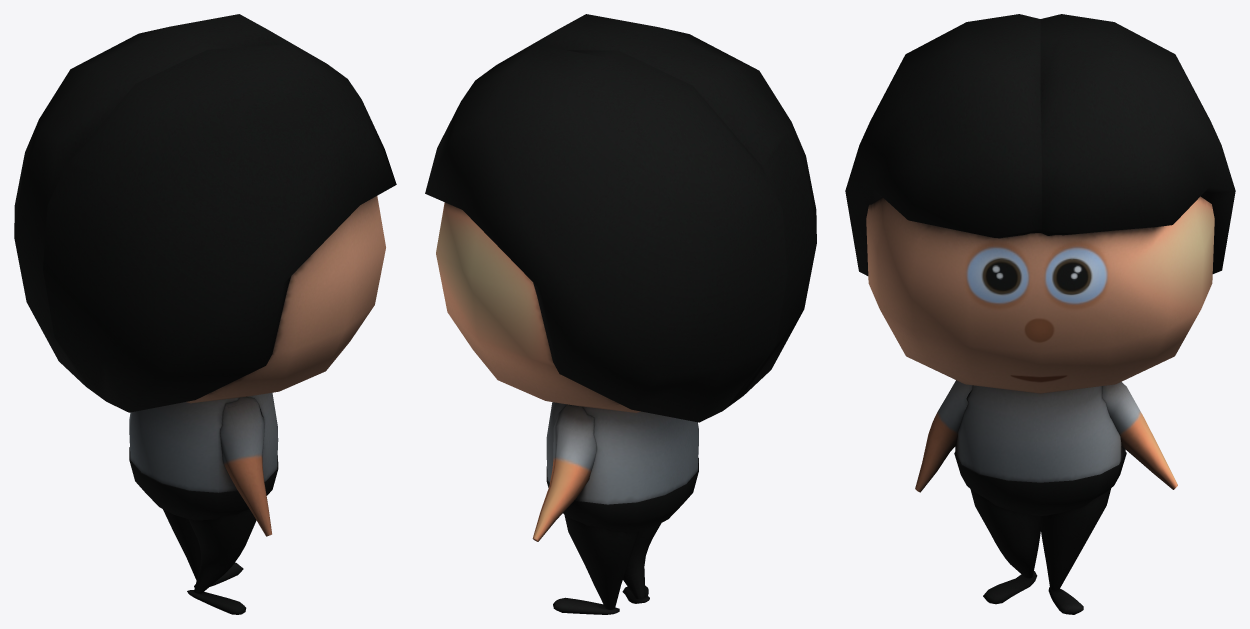
Rendered from pedone.FBX.
3 views of the same model, side by side, from view 1: azimuth 30°, elevation 25°; view 2: azimuth 150°, elevation 25°; view 3: azimuth 270°, elevation 25° (orthographic). The views are drawn at different scales.
Parts seen in each view (by area): view 1: personaggio_fermo; view 2: personaggio_fermo; view 3: personaggio_fermo.
Boxes of the visible parts, x1,y1,x2,y2 form: personaggio_fermo: [14, 14, 396, 614]; personaggio_fermo: [425, 14, 816, 614]; personaggio_fermo: [845, 14, 1235, 614].
Bounding box in the file's own units: 6.93 × 11.41 × 7.2.
